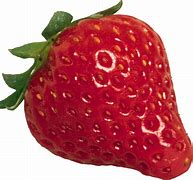Fresa: (24, 12, 193, 180)
